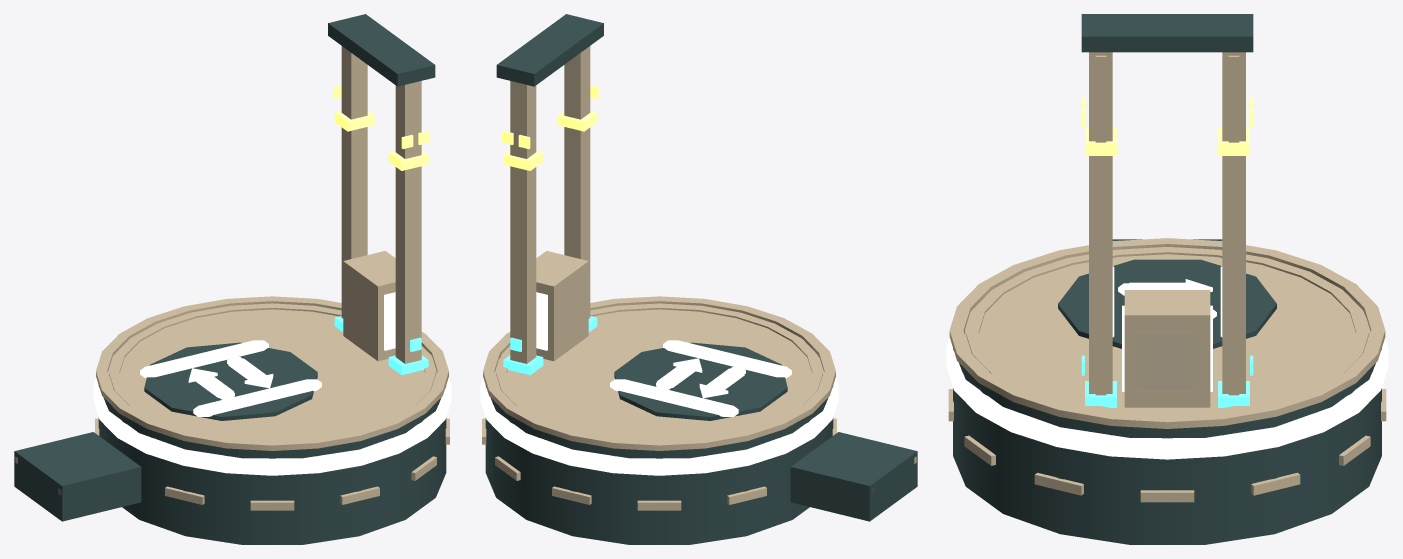
Rendered from Relay_Button_Lift_v3_lab2.glb.
3 renders of one model, left to right at view 1: azimuth 30°, elevation 25°; view 2: azimuth 150°, elevation 25°; view 3: azimuth 270°, elevation 25°, orthographic. The views are drawn at different scales.
Parts seen in each view (by area): view 1: Relay_Button_Lift_v3, Glyph, Strut, Car; view 2: Relay_Button_Lift_v3, Glyph, Strut, Car; view 3: Relay_Button_Lift_v3, Car, Glyph.
Boxes of the visible parts, bbox=[...] form: Relay_Button_Lift_v3: bbox=[93, 14, 451, 544]; Glyph: bbox=[140, 340, 321, 420]; Strut: bbox=[14, 432, 141, 521]; Car: bbox=[343, 251, 395, 361]; Relay_Button_Lift_v3: bbox=[480, 14, 838, 544]; Glyph: bbox=[610, 340, 791, 420]; Strut: bbox=[790, 432, 917, 521]; Car: bbox=[536, 251, 588, 361]; Relay_Button_Lift_v3: bbox=[946, 14, 1388, 544]; Car: bbox=[1122, 290, 1212, 407]; Glyph: bbox=[1058, 259, 1276, 348].
Size of the model in its own units: 5.17 by 5.8 by 4.12.
